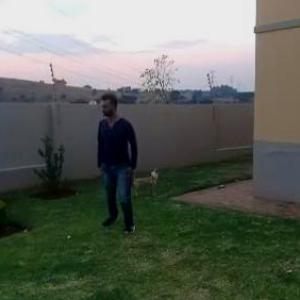follow: (94, 91, 142, 236)
